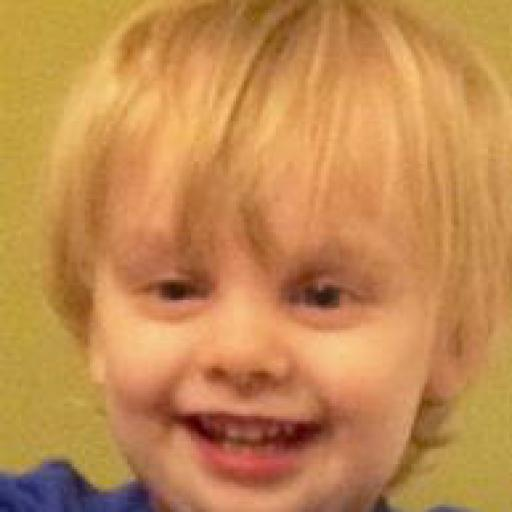Autism: (23, 2, 509, 512)
